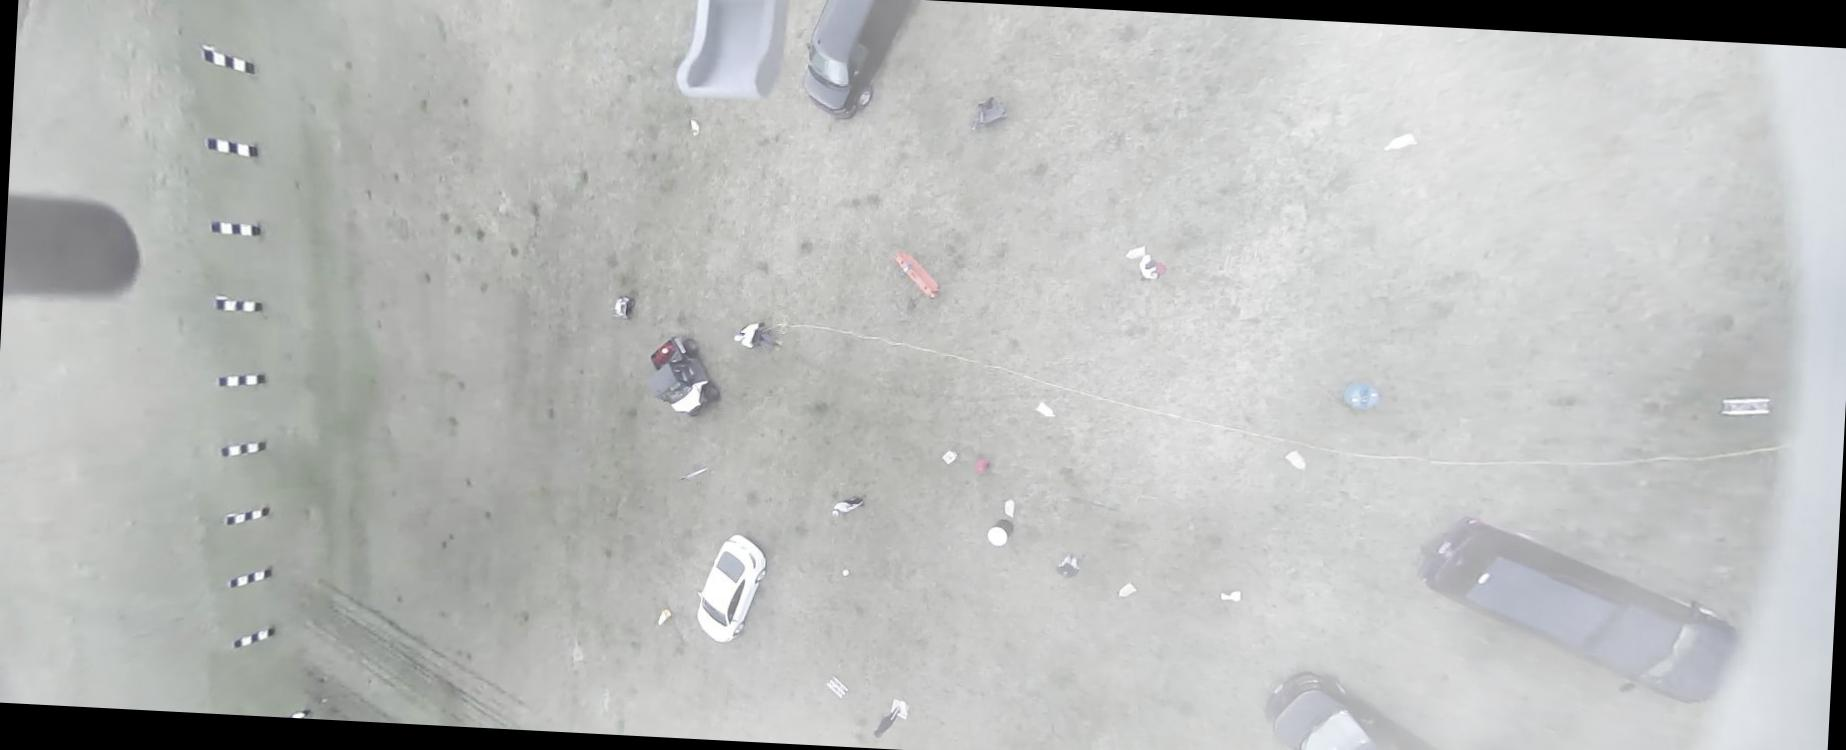vehicle: (1412, 512, 1745, 706), (1262, 666, 1498, 749), (800, 0, 920, 123), (696, 531, 770, 644), (644, 334, 724, 418)
